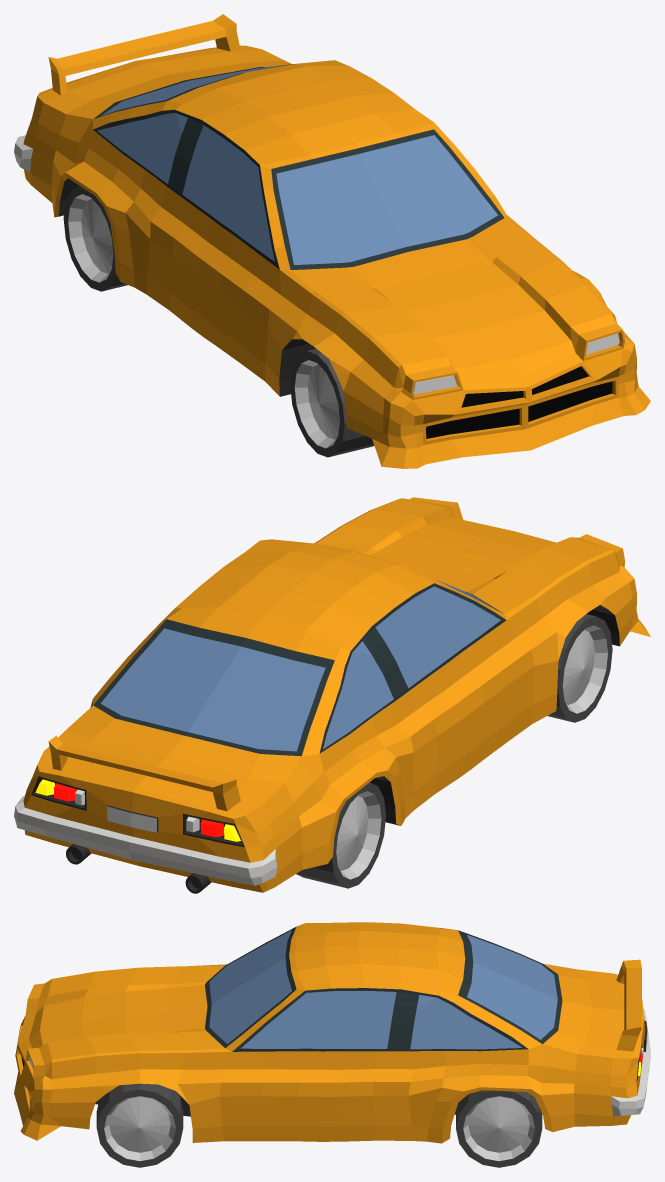
Rendered from opel.fbx.
3 views of the same model, one above another, from view 1: azimuth 30°, elevation 25°; view 2: azimuth 150°, elevation 25°; view 3: azimuth 270°, elevation 25° (orthographic). The views are drawn at different scales.
Parts seen in each view (by area): view 1: Car, wheel_fr, wheel_br; view 2: Car, wheel_fr, wheel_br; view 3: Car, wheel_fl, wheel_bl.
Part boxes in pixels (x1,y1,x2,y2): Car: [14, 14, 650, 468]; wheel_fr: [290, 348, 374, 457]; wheel_br: [63, 185, 127, 291]; Car: [14, 497, 650, 893]; wheel_fr: [547, 614, 612, 722]; wheel_br: [296, 782, 385, 888]; Car: [14, 922, 650, 1143]; wheel_fl: [96, 1083, 183, 1167]; wheel_bl: [456, 1090, 542, 1167].
Bounding box in the file's own units: 199 × 145 × 494.
